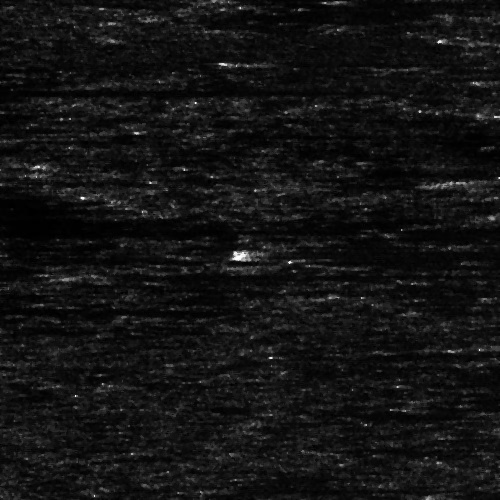object: (402, 174, 500, 187), (159, 481, 252, 492), (207, 58, 280, 63), (65, 273, 118, 278), (239, 252, 280, 255), (331, 0, 372, 1)
shadow: (0, 208, 276, 231), (0, 85, 292, 94), (206, 481, 403, 492), (0, 305, 208, 314), (244, 58, 448, 63), (0, 230, 201, 233), (459, 174, 500, 187), (0, 124, 46, 133), (92, 273, 157, 278), (260, 252, 328, 255), (352, 0, 500, 1)
